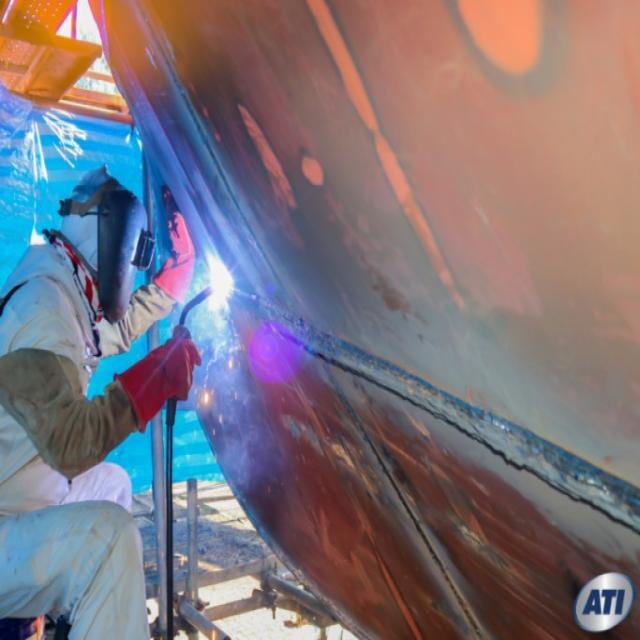welding: (208, 258, 234, 304)
